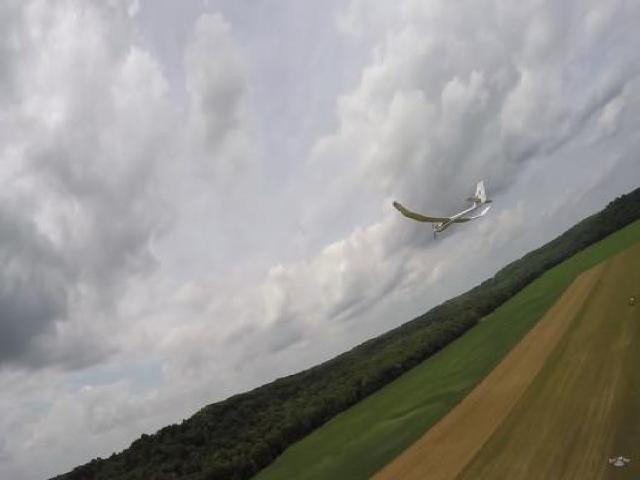uav: (390, 179, 493, 232)
